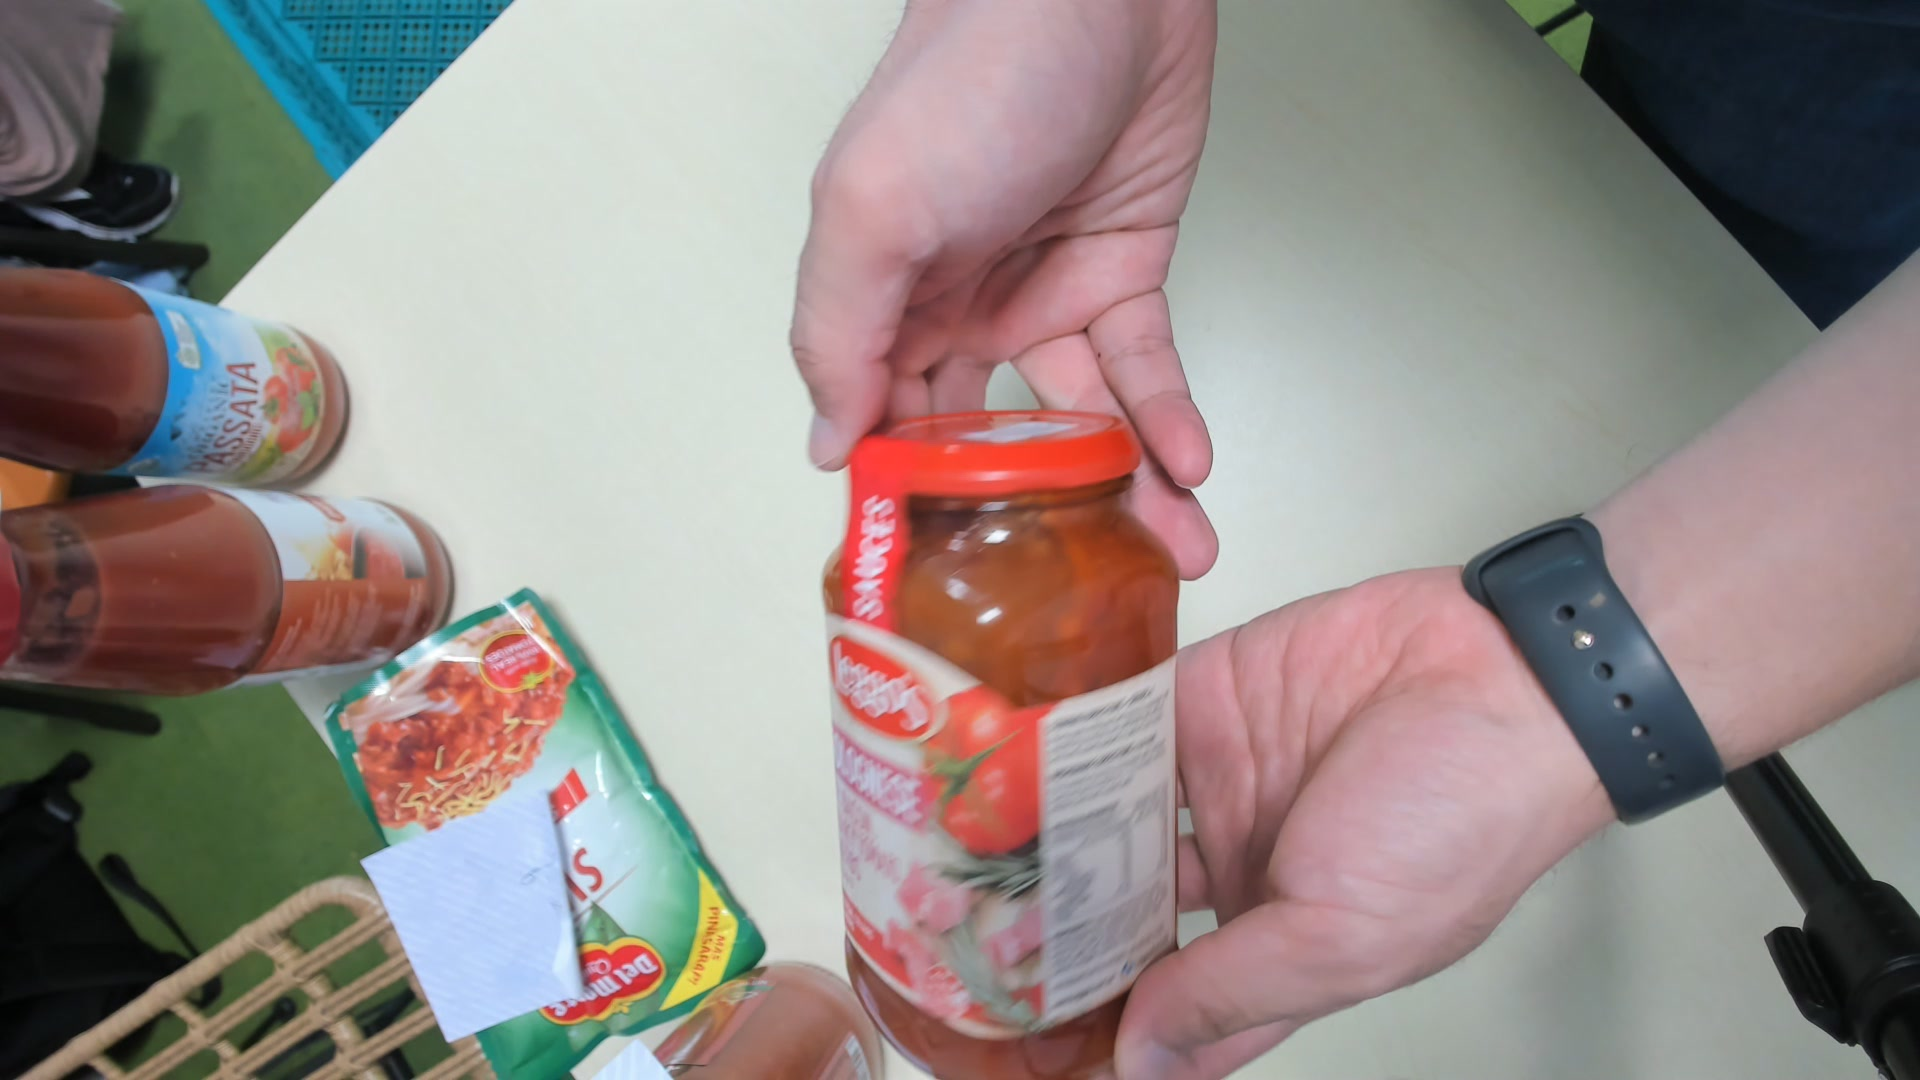PastaSauce_500-599g_Halal_NonHealthy: (823, 400, 1183, 1072)
